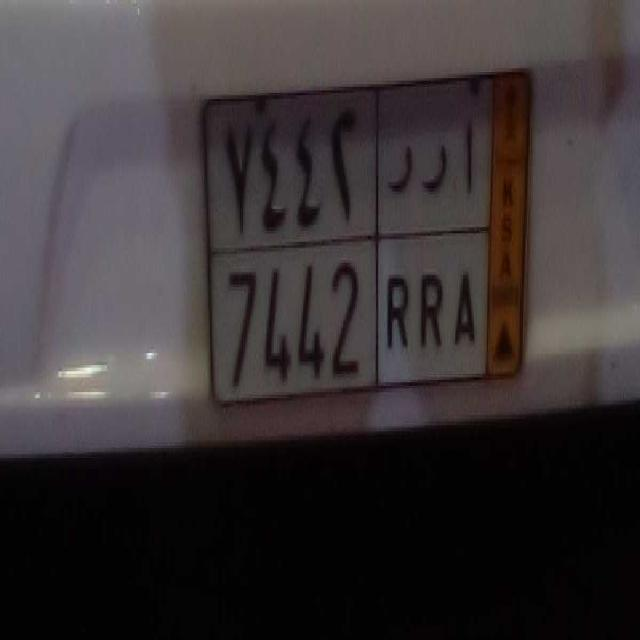license_plate: (207, 240, 491, 403)
